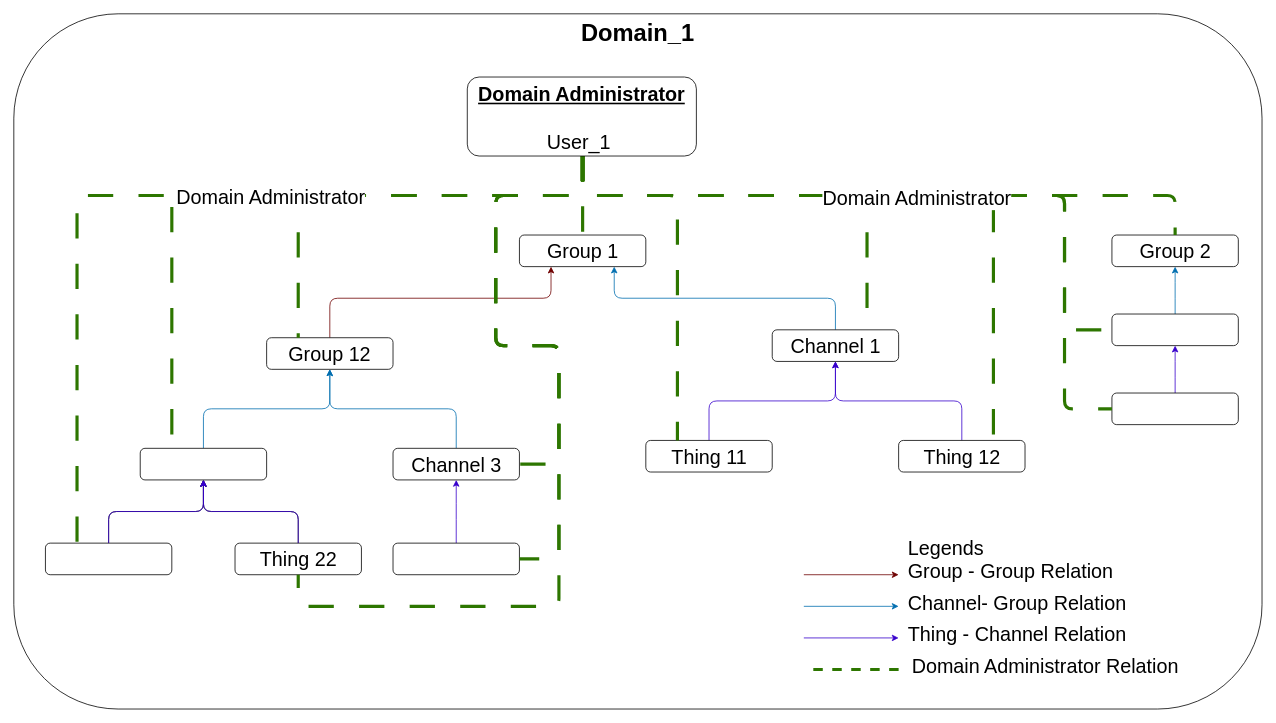
Image size: 1276x723. Some labels were removed from this diagram. The shapes that lost their labels are listed below. From the top down, each one's centre as x and y in pixels, then its label:
At point (1174, 329): "Channel 4".
At point (1174, 408): "Thing 41".
At point (203, 464): "Channel 2".
At point (108, 558): "Thing 21".
At point (455, 558): "Thing 31".
